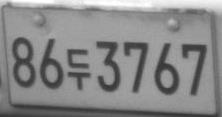3: (95, 40, 121, 93)
6: (153, 42, 180, 96), (39, 38, 64, 89)
7: (181, 43, 208, 94), (123, 41, 149, 93)
8: (11, 35, 37, 88)
두: (66, 48, 91, 90)
